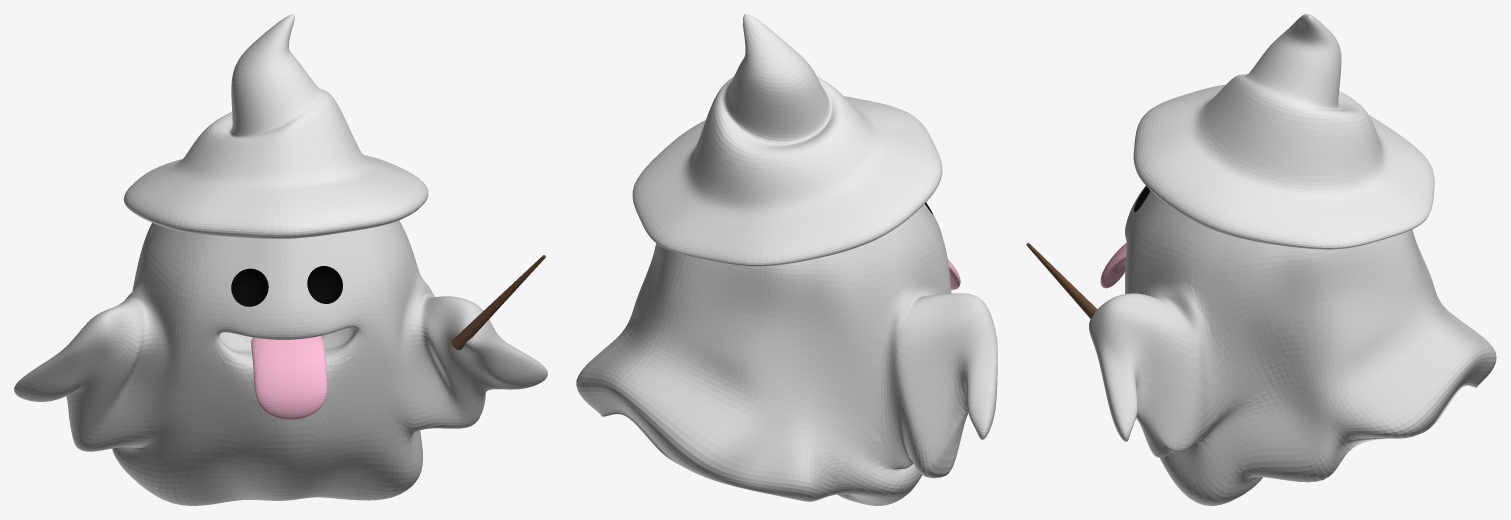
File: ghost-10.gltf
3 renders of one model, left to right at view 1: azimuth 30°, elevation 25°; view 2: azimuth 150°, elevation 25°; view 3: azimuth 270°, elevation 25°, orthographic. The views are drawn at different scales.
Visible parts, largest first — view 1: Body, 모자, Capsule.1, Capsule, wand; view 2: Body, 모자; view 3: Body, 모자, wand, Capsule.1.
Boxes of the visible parts, box(x1,y1,x2,y2) form: Body: box(14, 220, 547, 505); 모자: box(123, 14, 428, 238); Capsule.1: box(251, 336, 327, 419); Capsule: box(231, 266, 342, 306); wand: box(451, 255, 545, 349); Body: box(576, 203, 997, 505); 모자: box(632, 14, 942, 266); Body: box(1089, 186, 1496, 505); 모자: box(1133, 14, 1434, 249); wand: box(1026, 243, 1097, 318); Capsule.1: box(1100, 243, 1126, 288).
Size of the model in its own units: 299 by 310 by 283.
